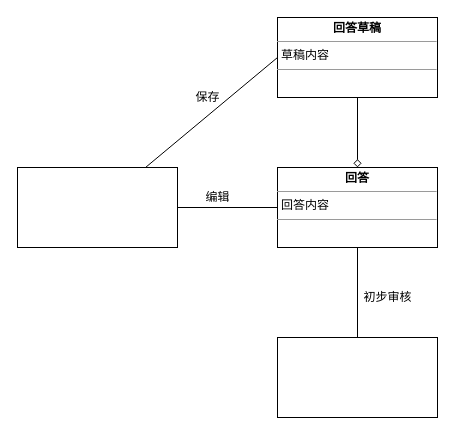
This 455x435 diagram has some shape labels left out. Each missing label, with the centre of its shape:
审核系统: [357,377]
用户: [97,207]
